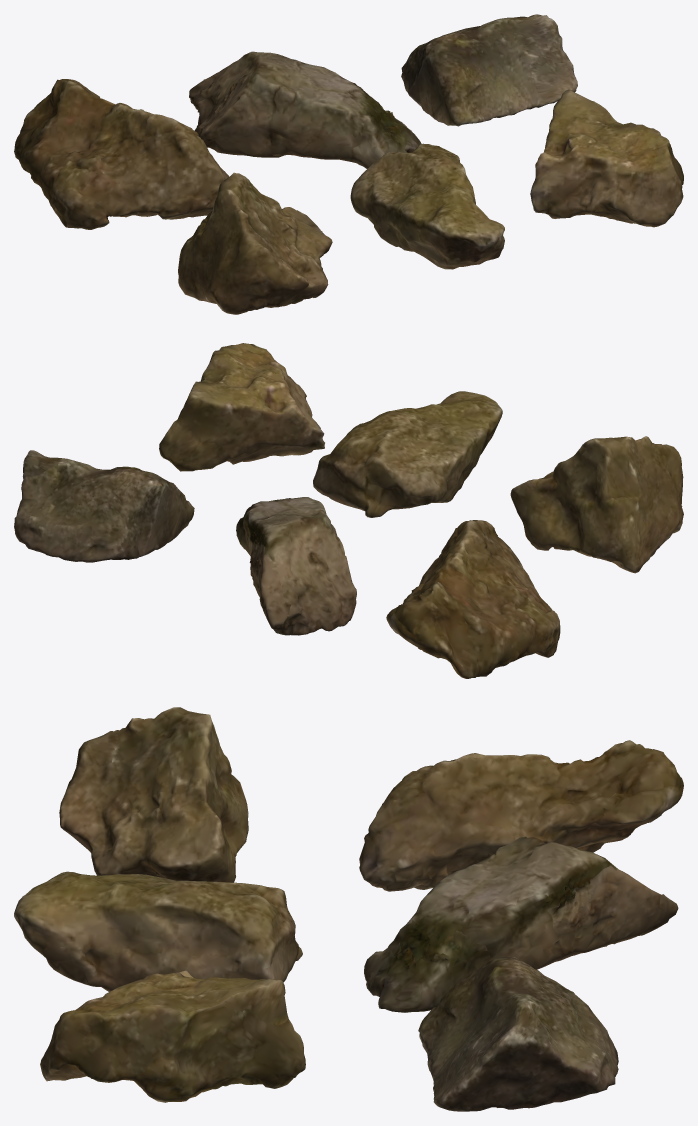
File: rock_moss_set_01.glb
The picture shows the model from 3 angles, top to bottom: view 1: azimuth 30°, elevation 25°; view 2: azimuth 150°, elevation 25°; view 3: azimuth 270°, elevation 25°; orthographic projection. The views are drawn at different scales.
Visible parts, largest first — view 1: rock_moss_set_01_rock01; view 2: rock_moss_set_01_rock01; view 3: rock_moss_set_01_rock01.
Boxes of the visible parts, x1,y1,x2,y2 form: rock_moss_set_01_rock01: [14, 14, 683, 314]; rock_moss_set_01_rock01: [14, 343, 683, 678]; rock_moss_set_01_rock01: [14, 707, 683, 1111].
Bounding box in the file's own units: 8 × 1.77 × 6.95.
Materials: 1 (1 with a texture image).
